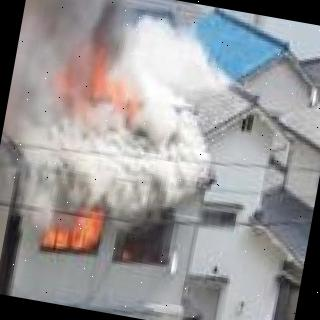fire: (38, 26, 146, 126), (34, 205, 108, 263)
